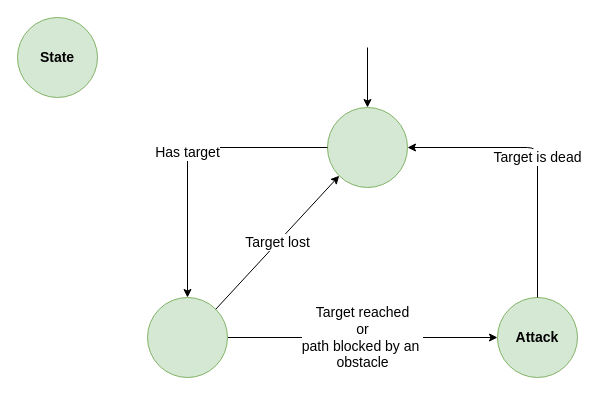
Some shapes in this 599 by 395 pixel diagram are drawn without their labels. Here are the shapes that lost their labels. From the top down, the centre of each, then its label:
the point at 367,147: Idle
the point at 187,337: Move
